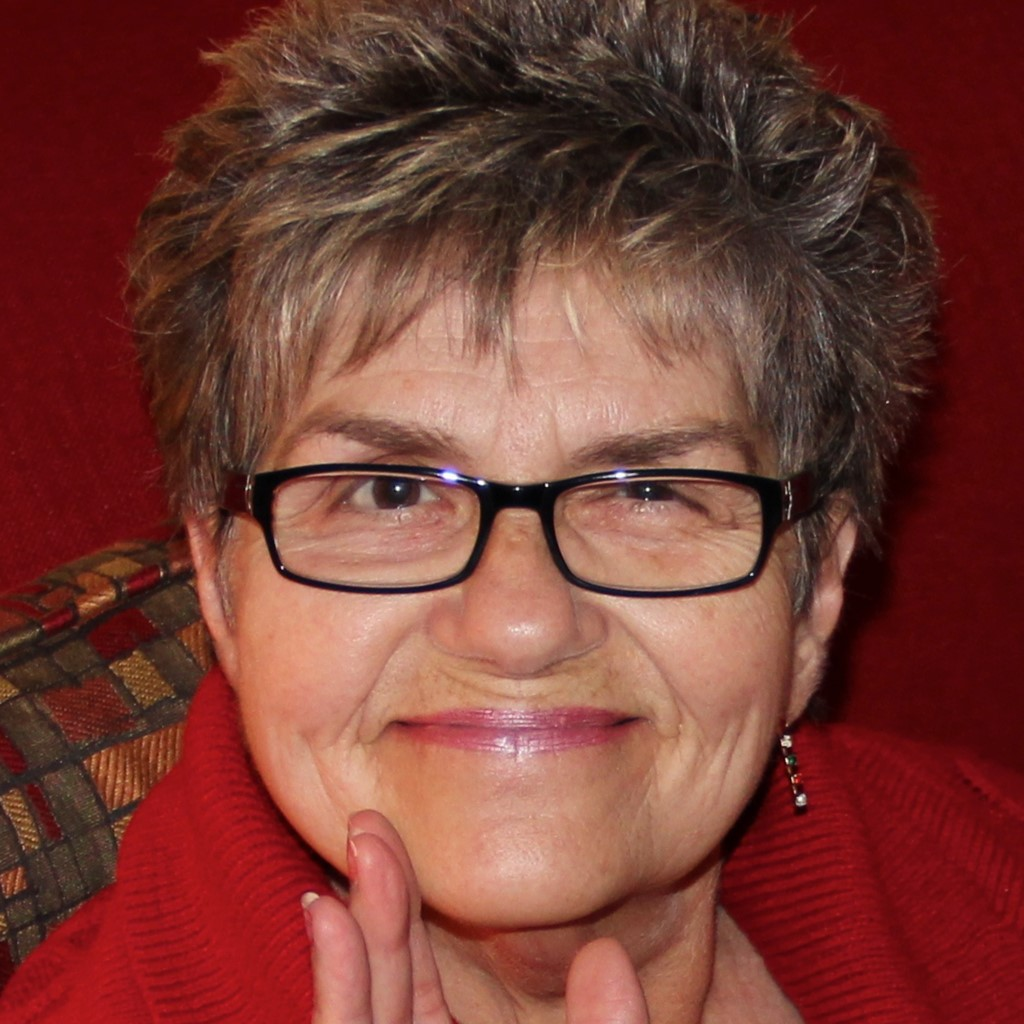sin_mascara: (184, 101, 816, 929)
